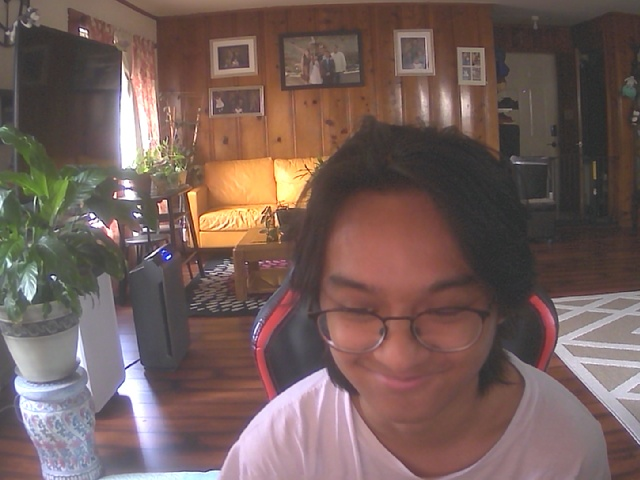happy: (302, 167, 510, 426)
